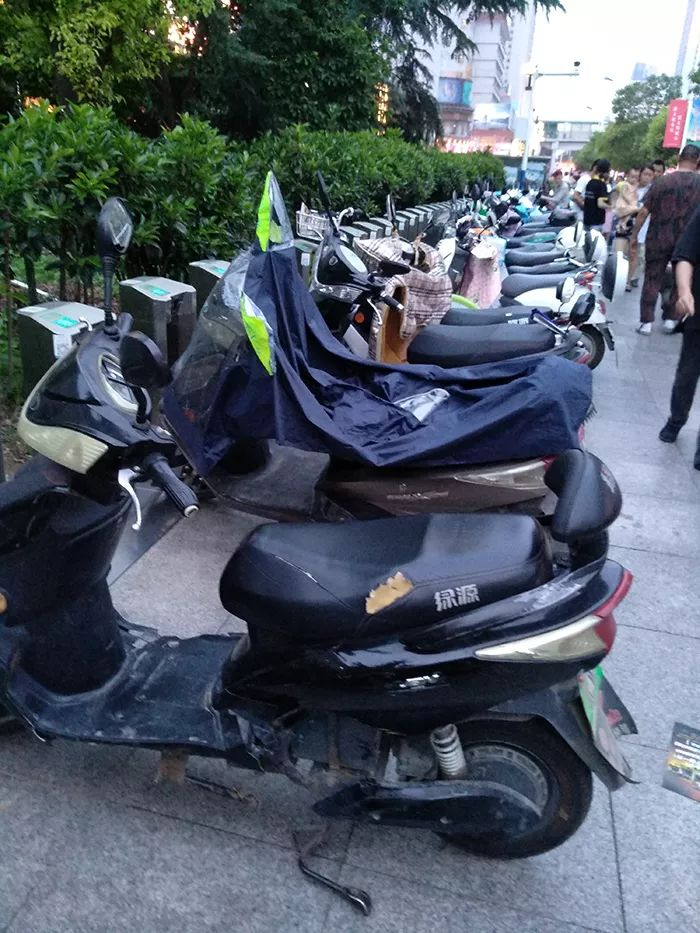电动车: (3, 192, 664, 892), (133, 163, 614, 524), (278, 172, 613, 381), (418, 211, 612, 316)
